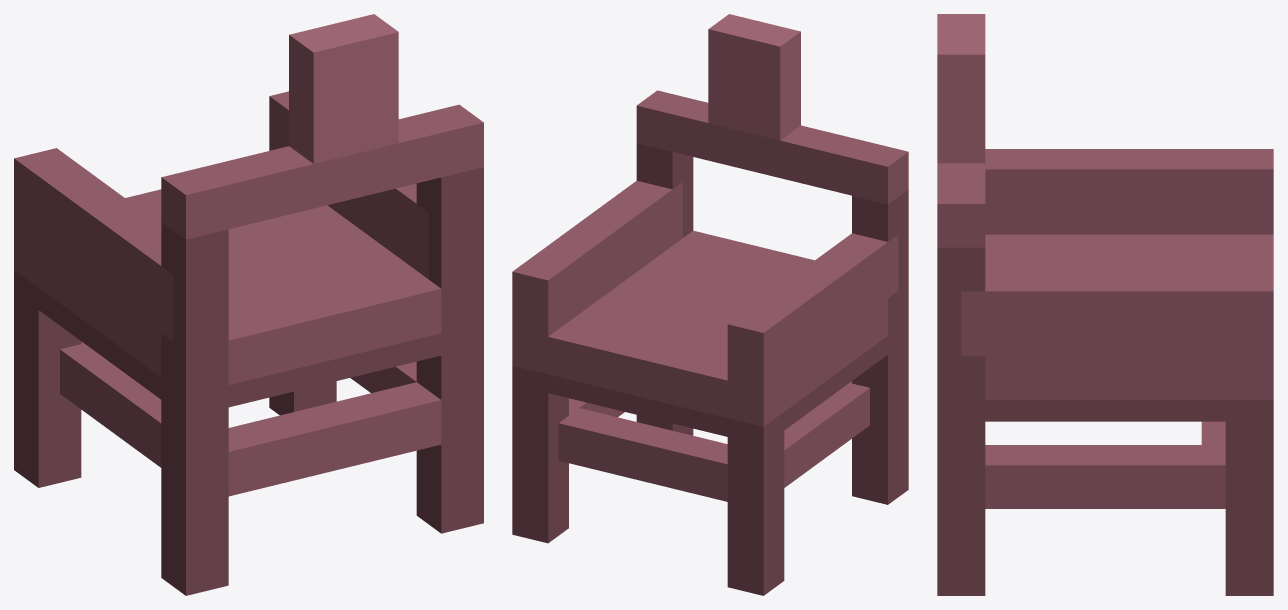
Rendered from trono_jarl_01.glb.
The picture shows the model from 3 angles, left to right: view 1: azimuth 30°, elevation 25°; view 2: azimuth 150°, elevation 25°; view 3: azimuth 270°, elevation 25°; orthographic projection. The views are drawn at different scales.
Parts seen in each view (by area): view 1: trono_jarl; view 2: trono_jarl; view 3: trono_jarl.
Part boxes in pixels (x1,y1,x2,y2): trono_jarl: [14, 14, 483, 595]; trono_jarl: [512, 14, 908, 595]; trono_jarl: [937, 14, 1273, 595].
Size of the model in its own units: 1 by 1.64 by 1.
